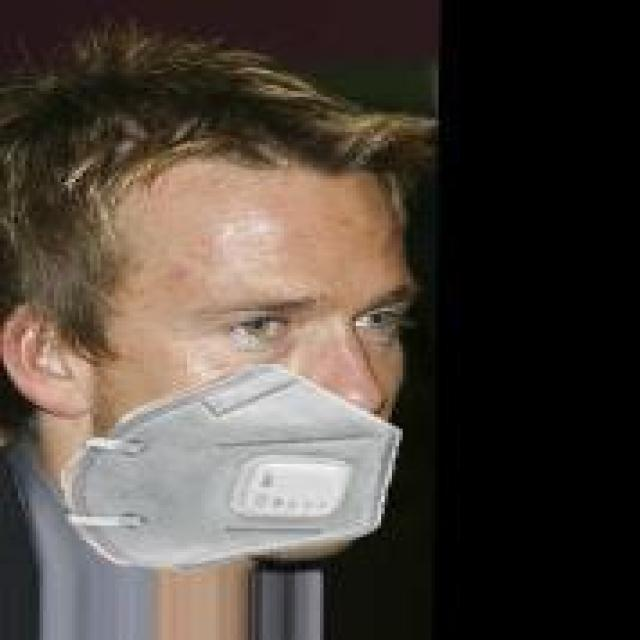mask: (15, 62, 468, 584)
